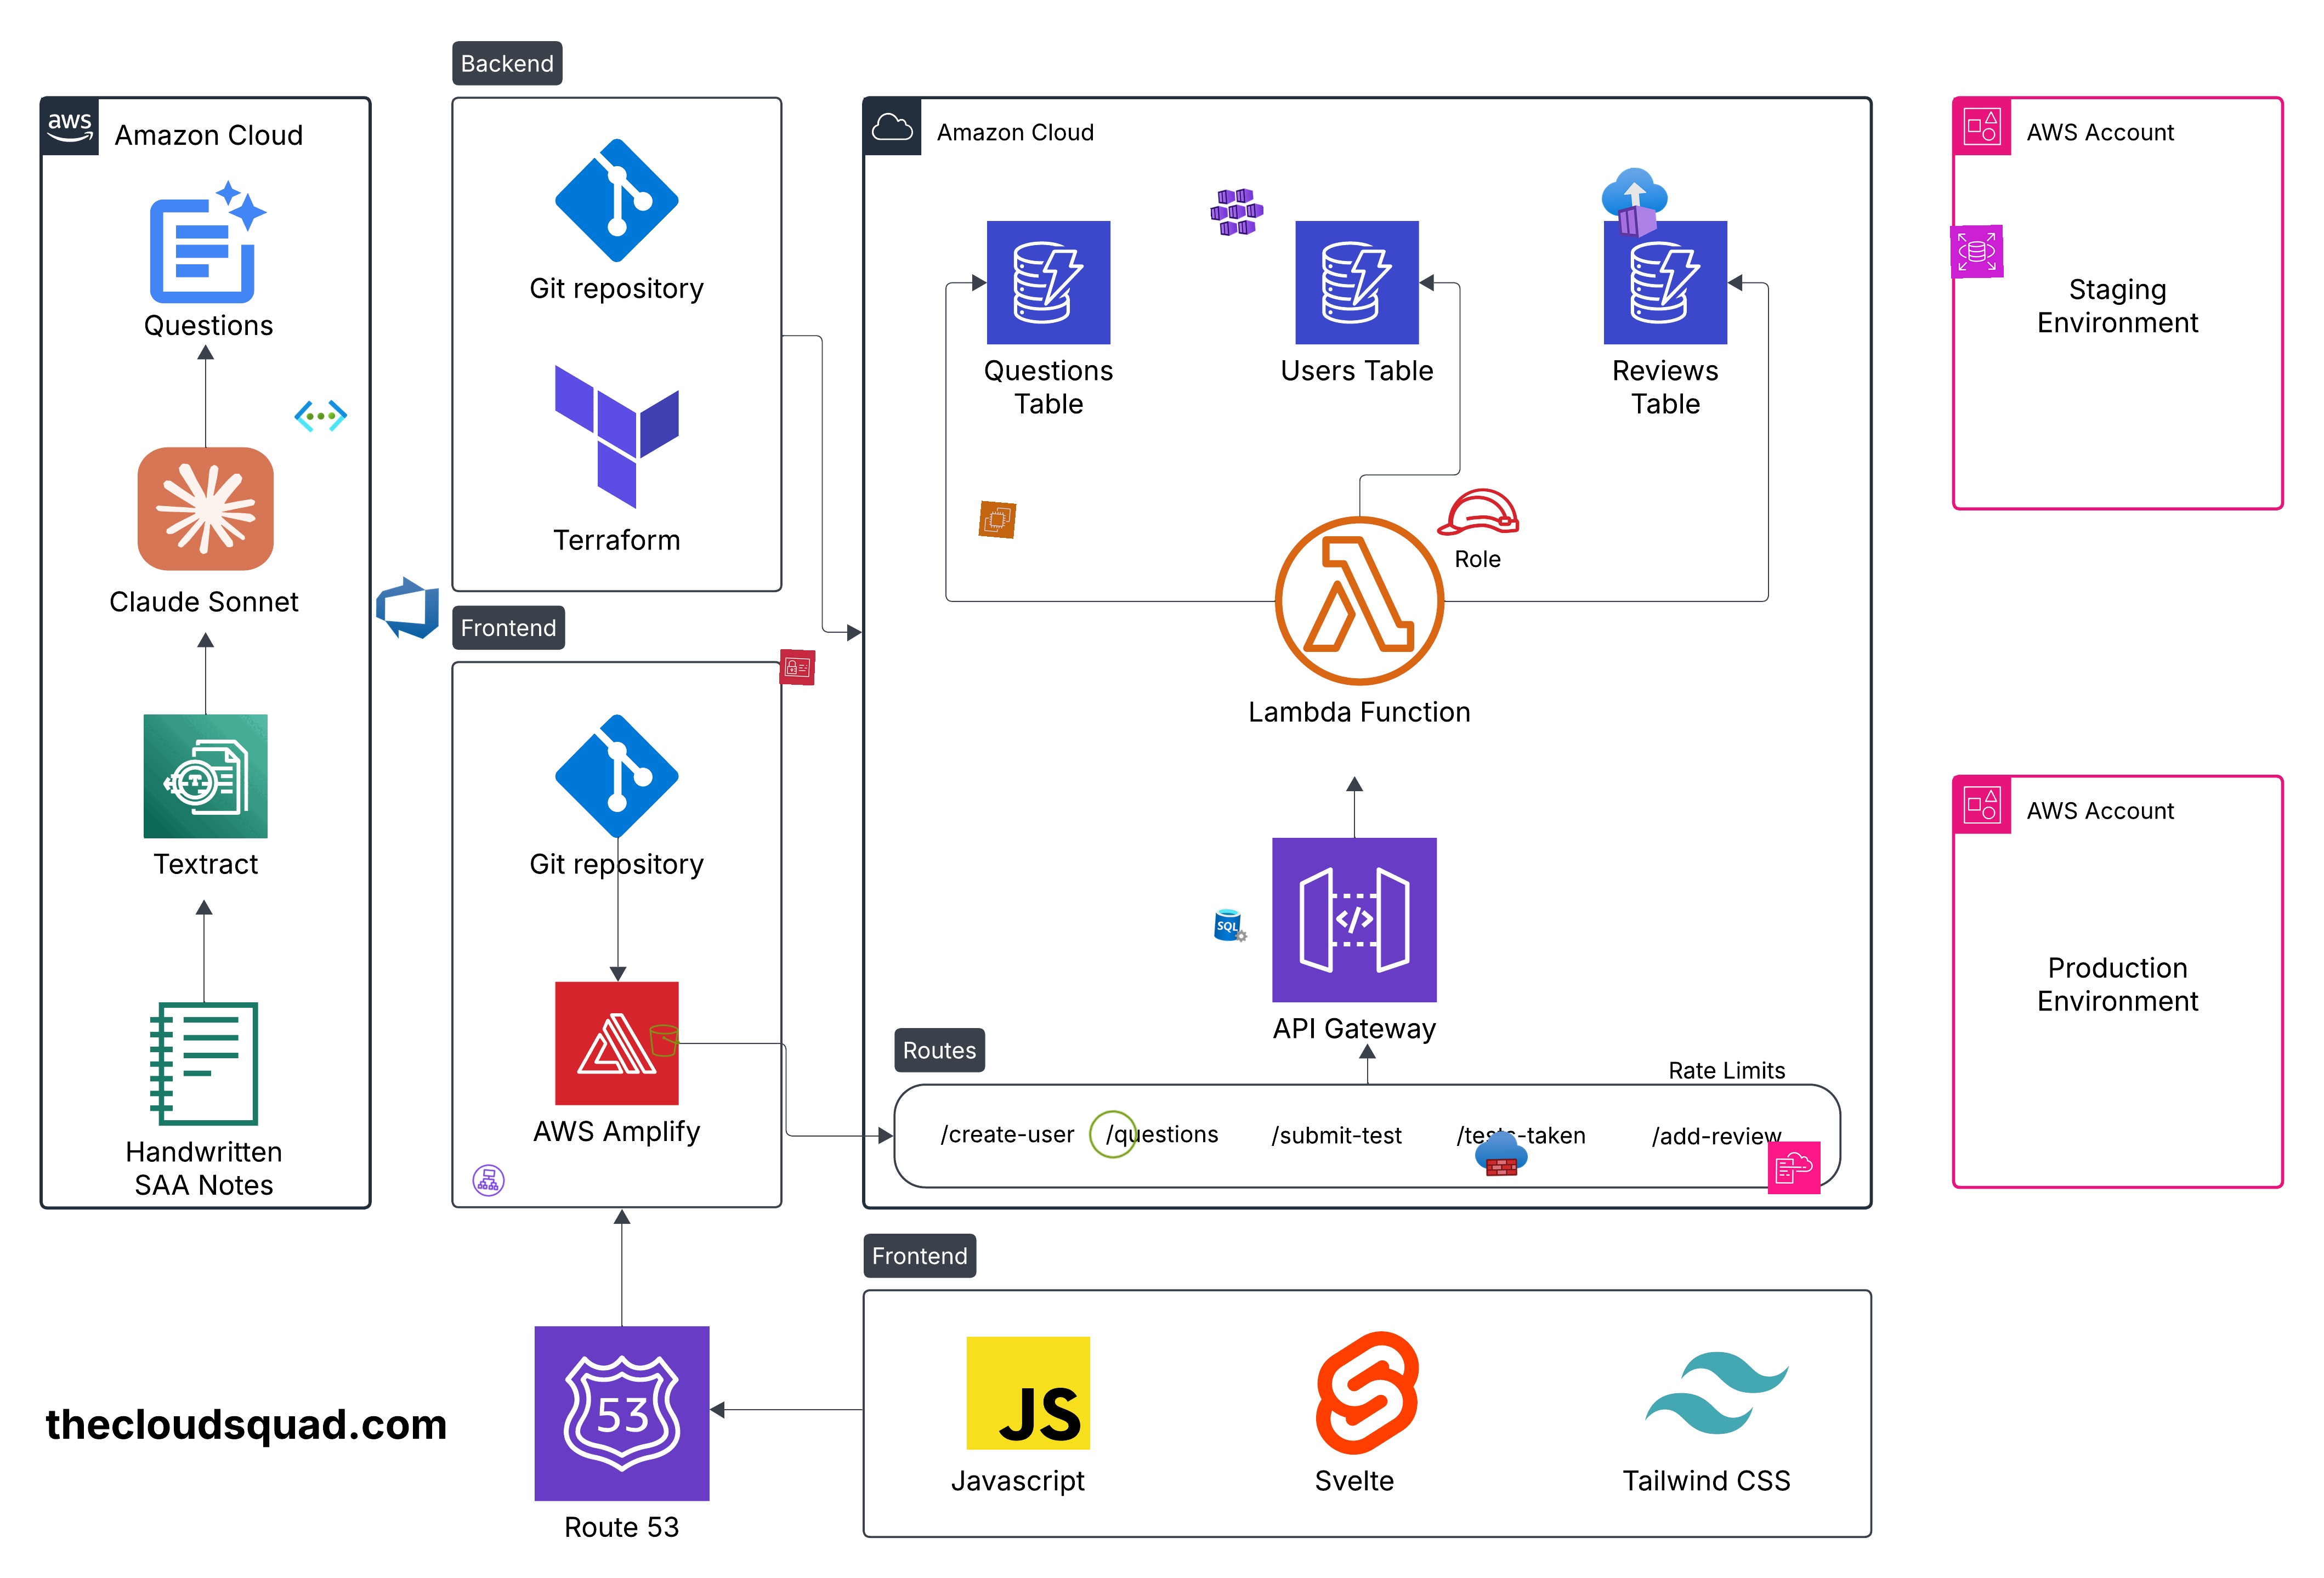aws_amazon_ec2: (979, 500, 1016, 539)
aws_amazon_rds: (1951, 225, 2004, 278)
aws_cloudformation: (1768, 1141, 1820, 1194)
aws_elastic_load_balancing_application_load_balancer: (470, 1161, 507, 1199)
aws_identity_and_access_management: (778, 648, 815, 685)
aws_simple_storage_service_bucket: (646, 1023, 683, 1058)
aws_simple_storage_service_object: (1085, 1106, 1141, 1162)
azure_container_instances: (1597, 164, 1674, 241)
azure_devops: (371, 572, 444, 643)
azure_firewalls: (1475, 1127, 1528, 1180)
azure_kubernetes_services: (1208, 183, 1266, 240)
azure_sql_server: (1213, 905, 1250, 944)
azure_virtual_networks: (294, 389, 349, 444)
